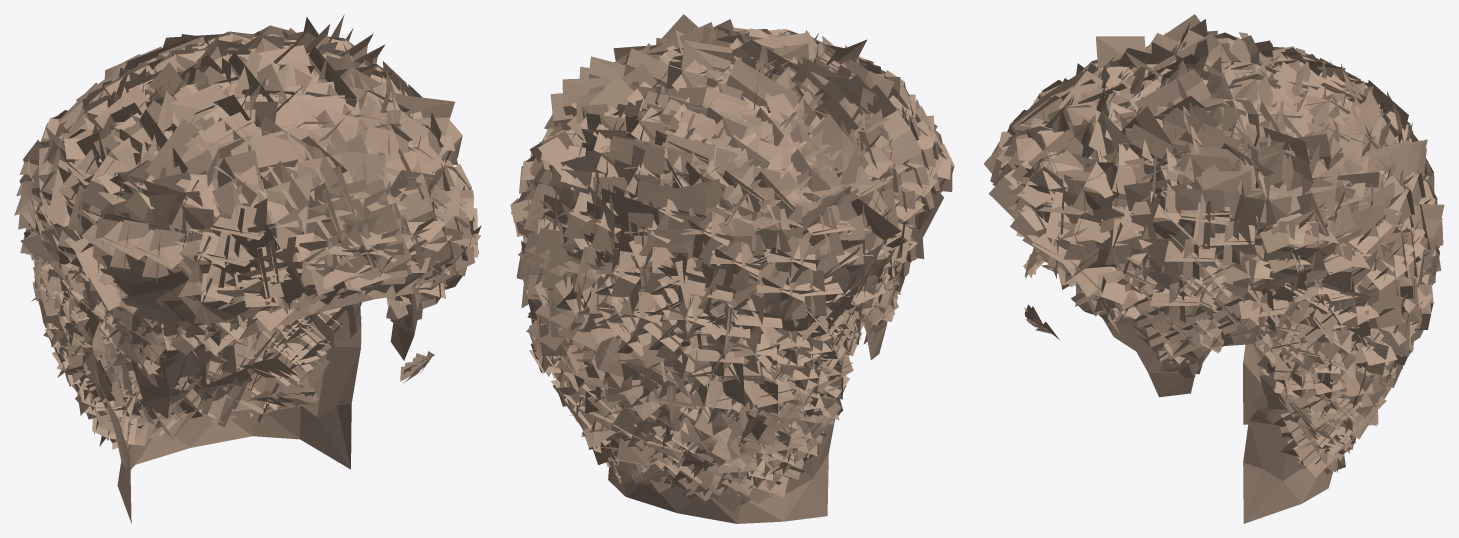
Rendered from male_hair_01_lod0.glb.
3 views of the same model, side by side, from view 1: azimuth 30°, elevation 25°; view 2: azimuth 150°, elevation 25°; view 3: azimuth 270°, elevation 25° (orthographic). The views are drawn at different scales.
Visible parts, largest first — view 1: hair_01; view 2: hair_01; view 3: hair_01.
Part boxes in pixels (<box>): hair_01: <box>14,14,481,523</box>; hair_01: <box>510,14,954,523</box>; hair_01: <box>983,14,1444,523</box>.
Bounding box in the file's own units: 0.2018 × 0.2347 × 0.2274.
